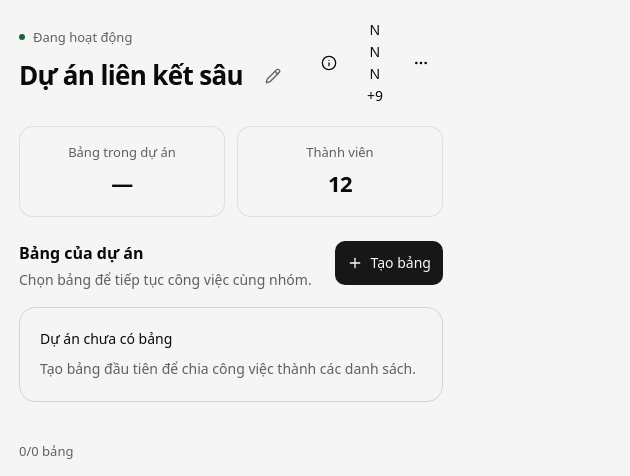
Test: refreshes project metadata after a rename without a second store
Double-click the heading "Dự án liên kết sâu" at point(131, 76), box [19,59,243,93]
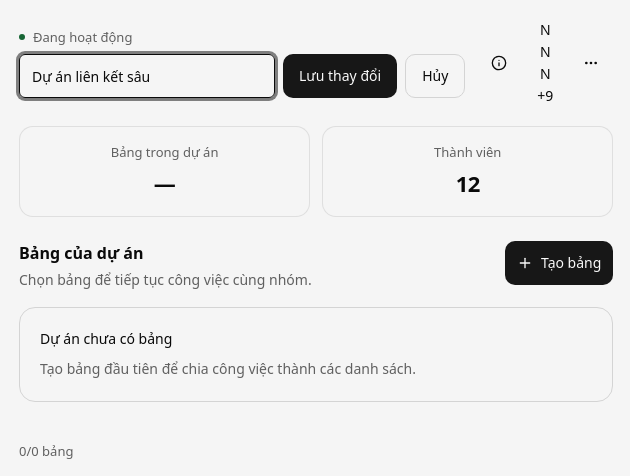
Replace the text in the field with "Tên mới" at point(147, 76), box [19,54,275,98]
Then press Enter
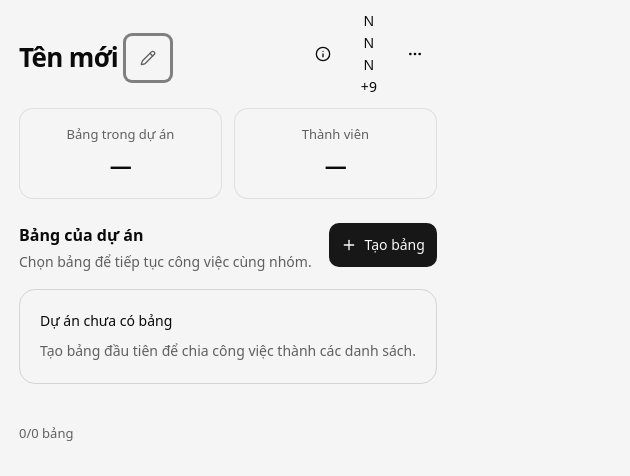
Result: the heading "Tên mới" is shown at [19,41,118,75]
